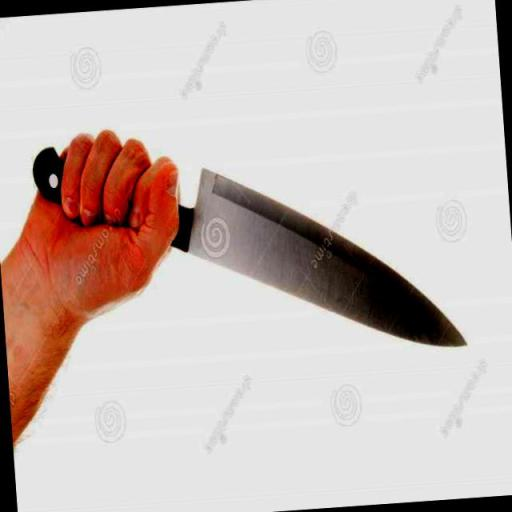knife: (69, 106, 478, 384)
